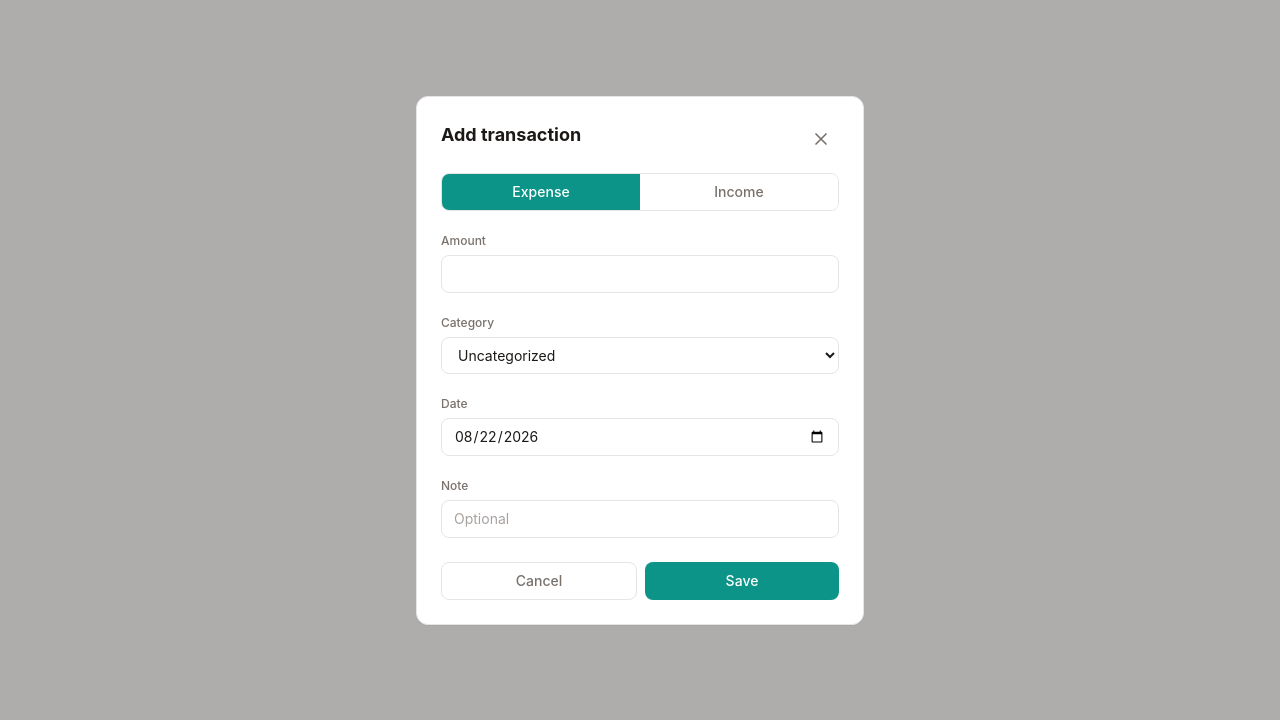
TransactionFormDialog — add mode › surfaces the server's error message and keeps the dialog open
Type "10" into the number field labelled "Amount" at (640, 274), box left=441, top=254, right=839, bottom=292
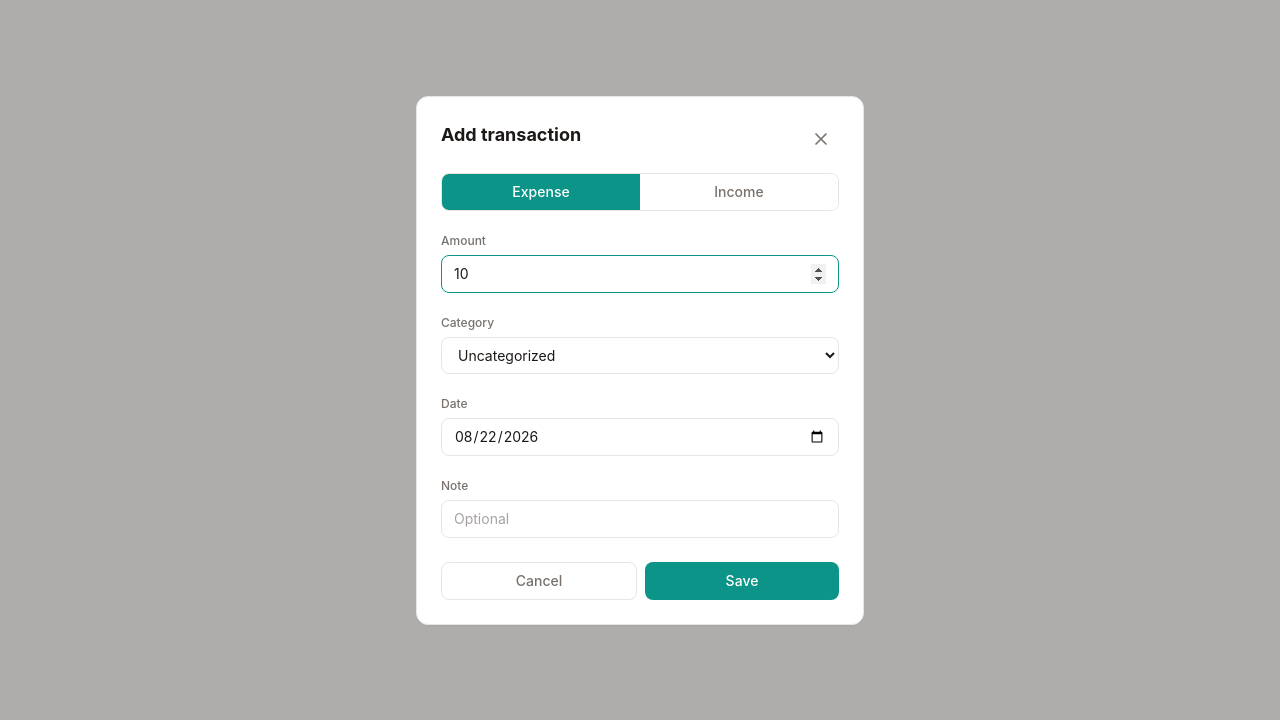
Click the button "Save" at (742, 580), box left=645, top=562, right=839, bottom=600
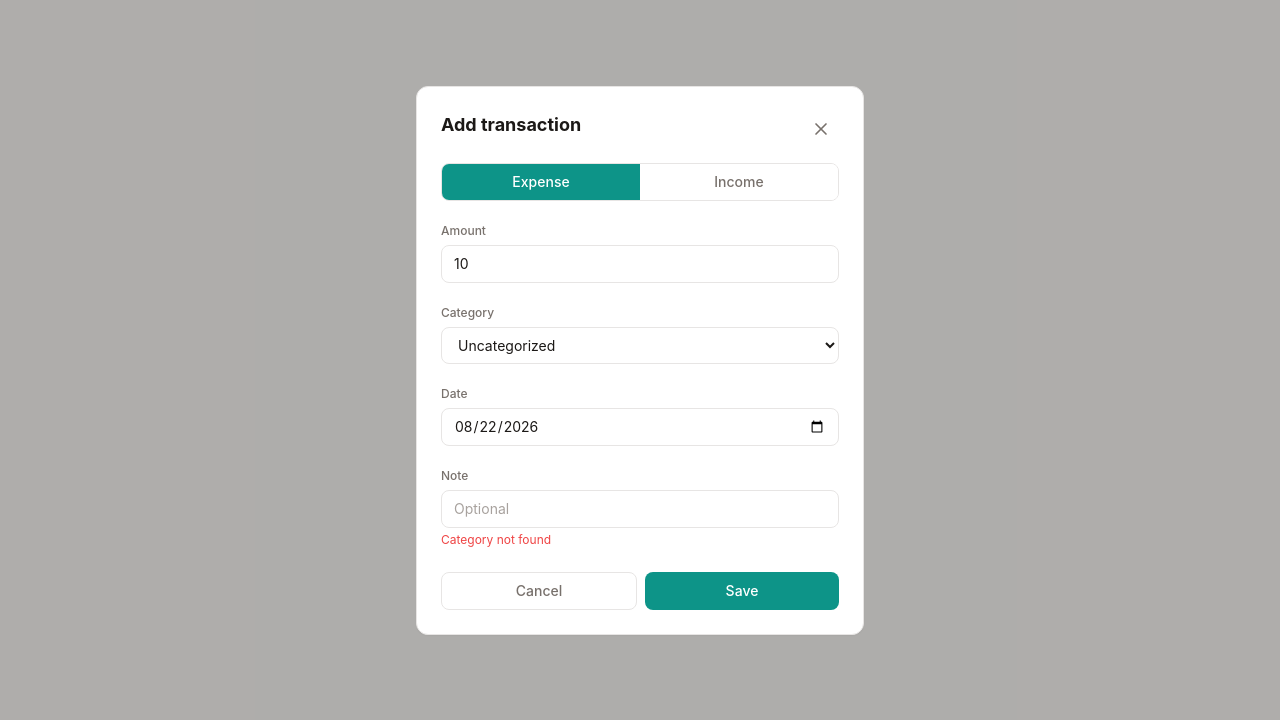
Check: the text "Category not found" is shown, box left=441, top=532, right=551, bottom=546
